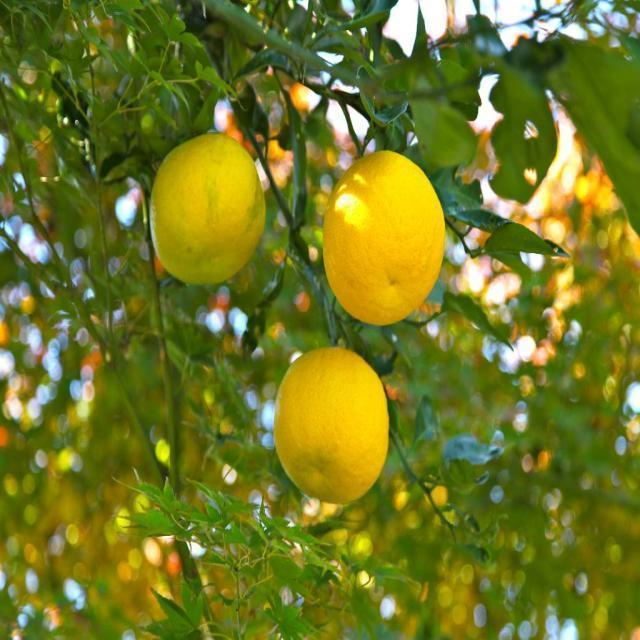Orange: (322, 149, 446, 326), (272, 346, 390, 504), (148, 131, 266, 285)
